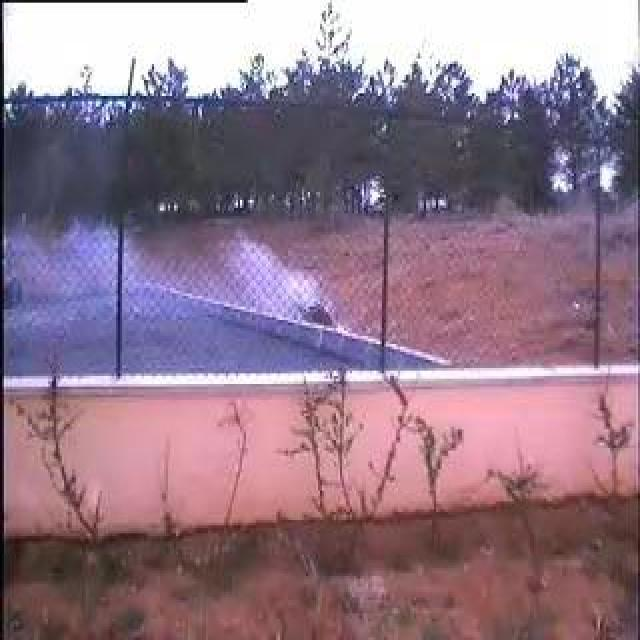Smoke: (57, 200, 363, 368)
